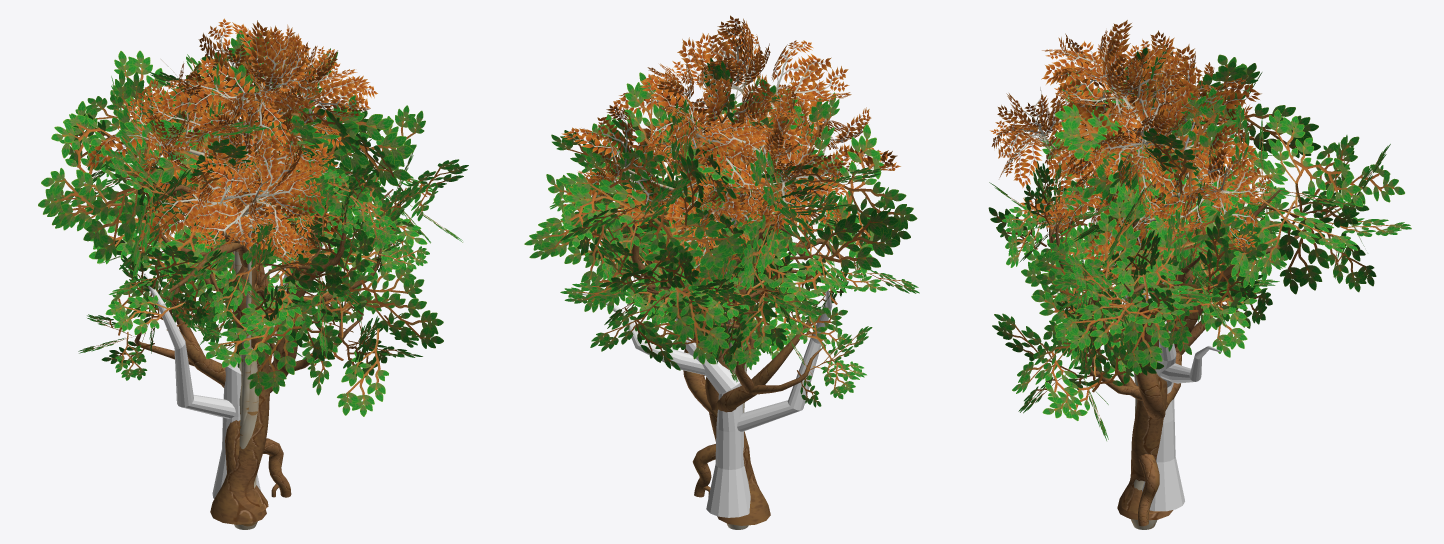
File: arvores02.fbx
3 views of the same model, side by side, from view 1: azimuth 30°, elevation 25°; view 2: azimuth 150°, elevation 25°; view 3: azimuth 270°, elevation 25° (orthographic). The views are drawn at different scales.
Visible parts, largest first — view 1: FolhasArvore.01, FolhasArvore.02, Folhas_ArvoreBranca_01, Folhas_ArvoreBranca_02, ArvoreVerde.01, Cylinder, ArvoreVerde.02, ArvoreBranca_01, ArvoreBranca_02; view 2: FolhasArvore.01, Folhas_ArvoreBranca_01, FolhasArvore.02, Folhas_ArvoreBranca_02, Cylinder, ArvoreVerde.01, ArvoreVerde.02, ArvoreBranca_01; view 3: FolhasArvore.01, FolhasArvore.02, Folhas_ArvoreBranca_01, Folhas_ArvoreBranca_02, ArvoreVerde.01, Cylinder, ArvoreVerde.02, ArvoreBranca_01.
Part boxes in pixels (x1,y1,x2,y2): FolhasArvore.01: (38,30,429,380); FolhasArvore.02: (89,105,468,416); Folhas_ArvoreBranca_01: (86,24,377,267); Folhas_ArvoreBranca_02: (144,18,327,258); ArvoreVerde.01: (124,116,382,524); Cylinder: (143,119,323,498); ArvoreVerde.02: (188,189,393,511); ArvoreBranca_01: (147,32,329,529); ArvoreBranca_02: (161,59,267,428); FolhasArvore.01: (524,58,919,407); Folhas_ArvoreBranca_01: (561,21,900,286); FolhasArvore.02: (542,114,822,370); Folhas_ArvoreBranca_02: (639,15,851,247); Cylinder: (576,136,832,517); ArvoreVerde.01: (622,141,855,525); ArvoreVerde.02: (604,191,799,481); ArvoreBranca_01: (608,62,831,529); FolhasArvore.01: (988,45,1411,340); FolhasArvore.02: (992,131,1288,440); Folhas_ArvoreBranca_01: (990,26,1274,278); Folhas_ArvoreBranca_02: (1041,20,1261,247); ArvoreVerde.01: (1049,120,1341,526); Cylinder: (1124,122,1221,511); ArvoreVerde.02: (1081,246,1202,514); ArvoreBranca_01: (1018,53,1229,529).
Size of what is drawn, in the model's own units: 689 by 848 by 710.
